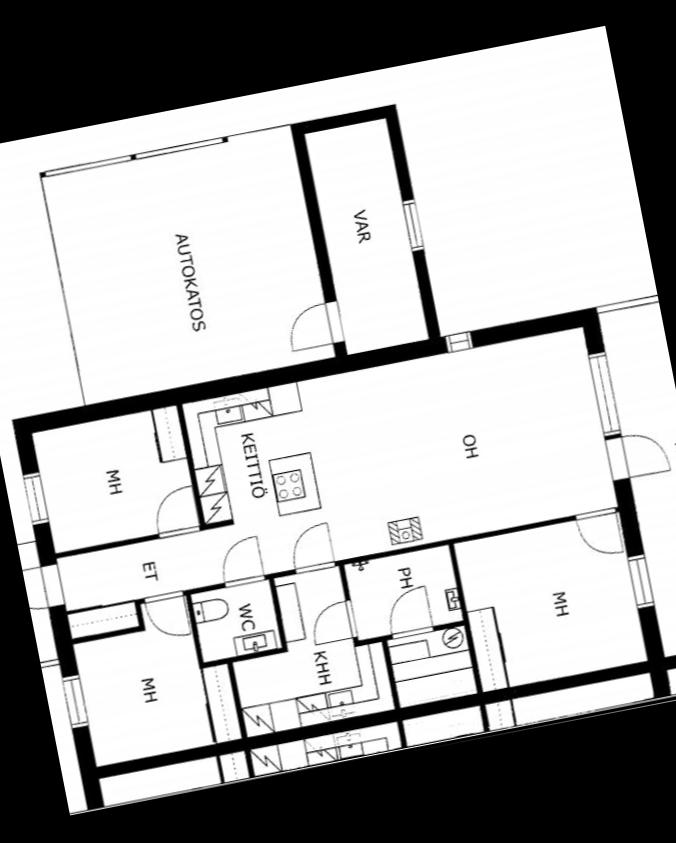door: (597, 422, 676, 487), (274, 294, 350, 358), (568, 502, 628, 566), (136, 586, 196, 647), (378, 582, 437, 644), (148, 476, 204, 541), (284, 518, 342, 580), (216, 530, 271, 590), (302, 596, 360, 648), (22, 558, 67, 612)
window: (583, 345, 628, 440), (13, 462, 57, 534), (54, 665, 96, 740), (622, 545, 660, 616), (394, 191, 428, 263), (438, 324, 479, 359)
